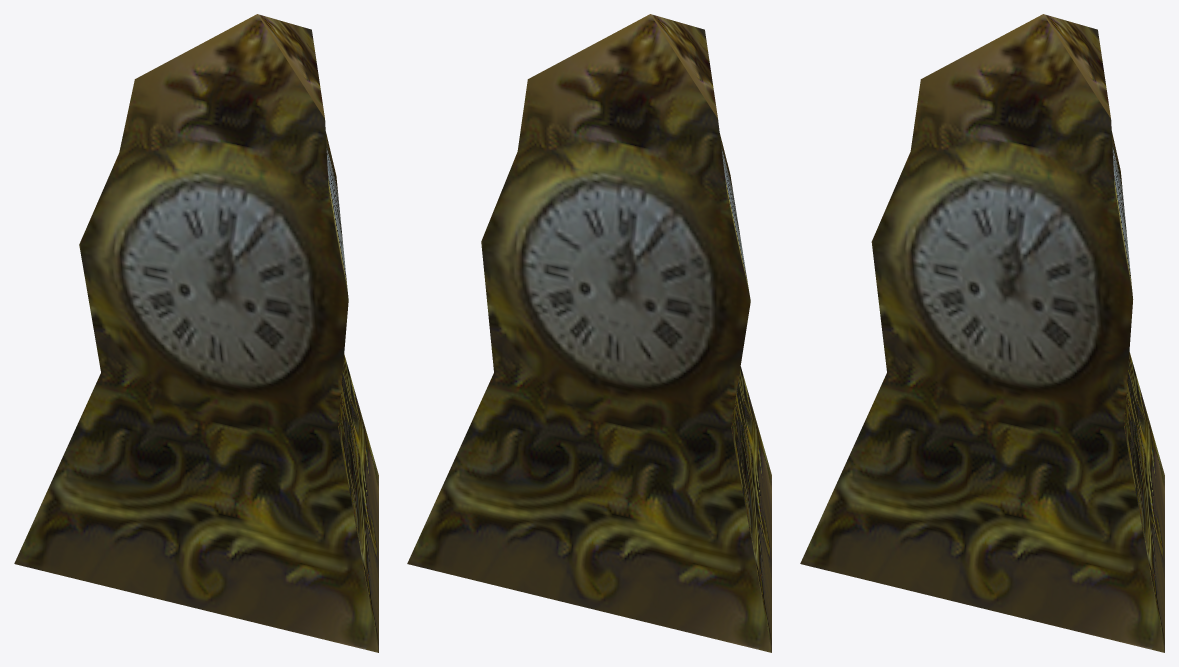
The model's file is watch.FBX.
3 views of the same model, side by side, from view 1: azimuth 30°, elevation 25°; view 2: azimuth 150°, elevation 25°; view 3: azimuth 270°, elevation 25° (orthographic).
Visible parts, largest first — view 1: watch; view 2: watch; view 3: watch.
Boxes of the visible parts, x1,y1,x2,y2 form: watch: [14, 14, 378, 652]; watch: [407, 14, 771, 652]; watch: [800, 14, 1164, 652].
Size of the model in its own units: 0.3502 by 0.5046 by 0.3033.
1 material, 1 textured.
